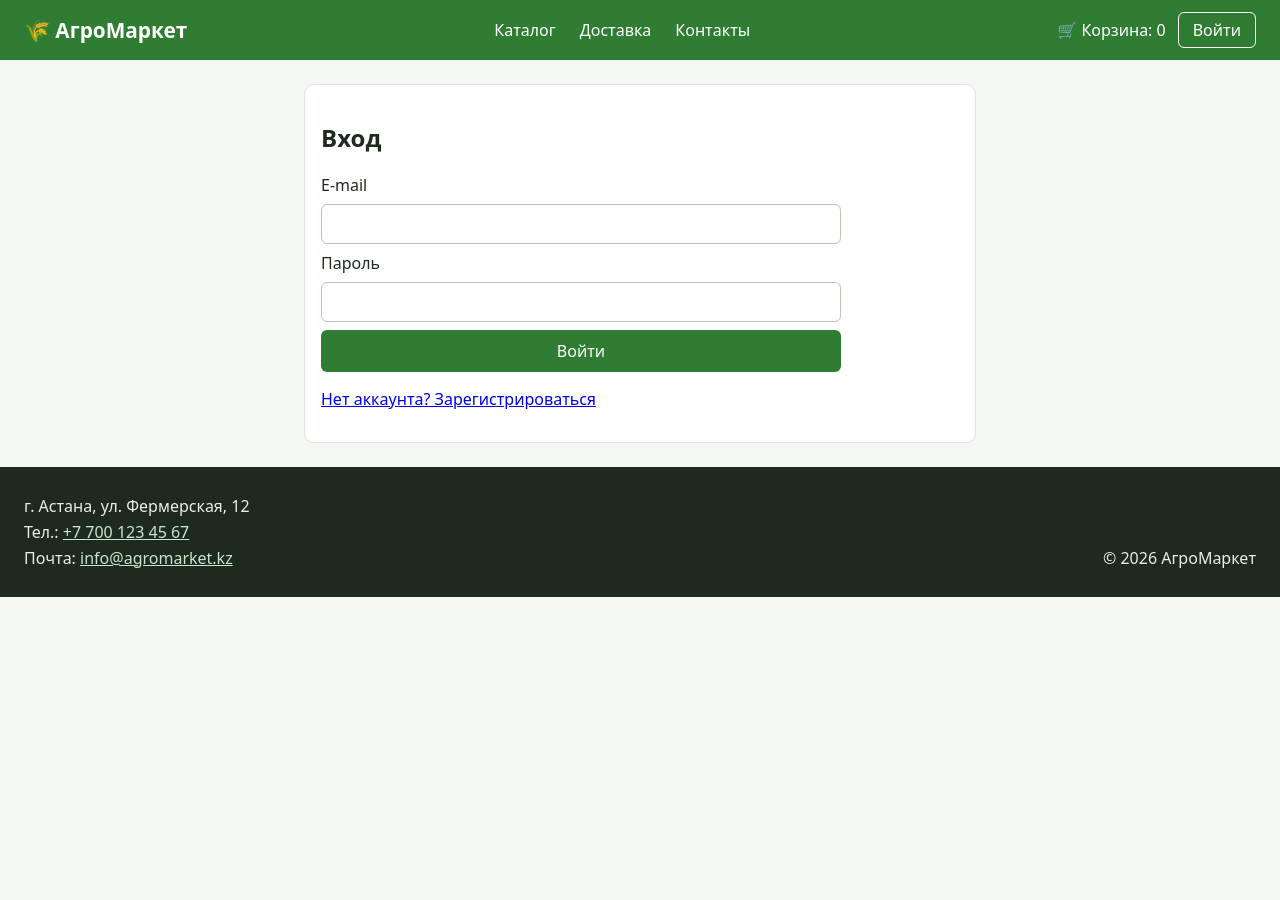
it: RegisterPage › у входа нет поля «Имя», ссылка ведёт на регистрацию, где оно есть
Expected: the field labelled "имя" is not shown
Step 1. Click the link "Нет аккаунта? Зарегистрироваться" → x=458, y=399, box x1=321 y1=388 x2=596 y2=410
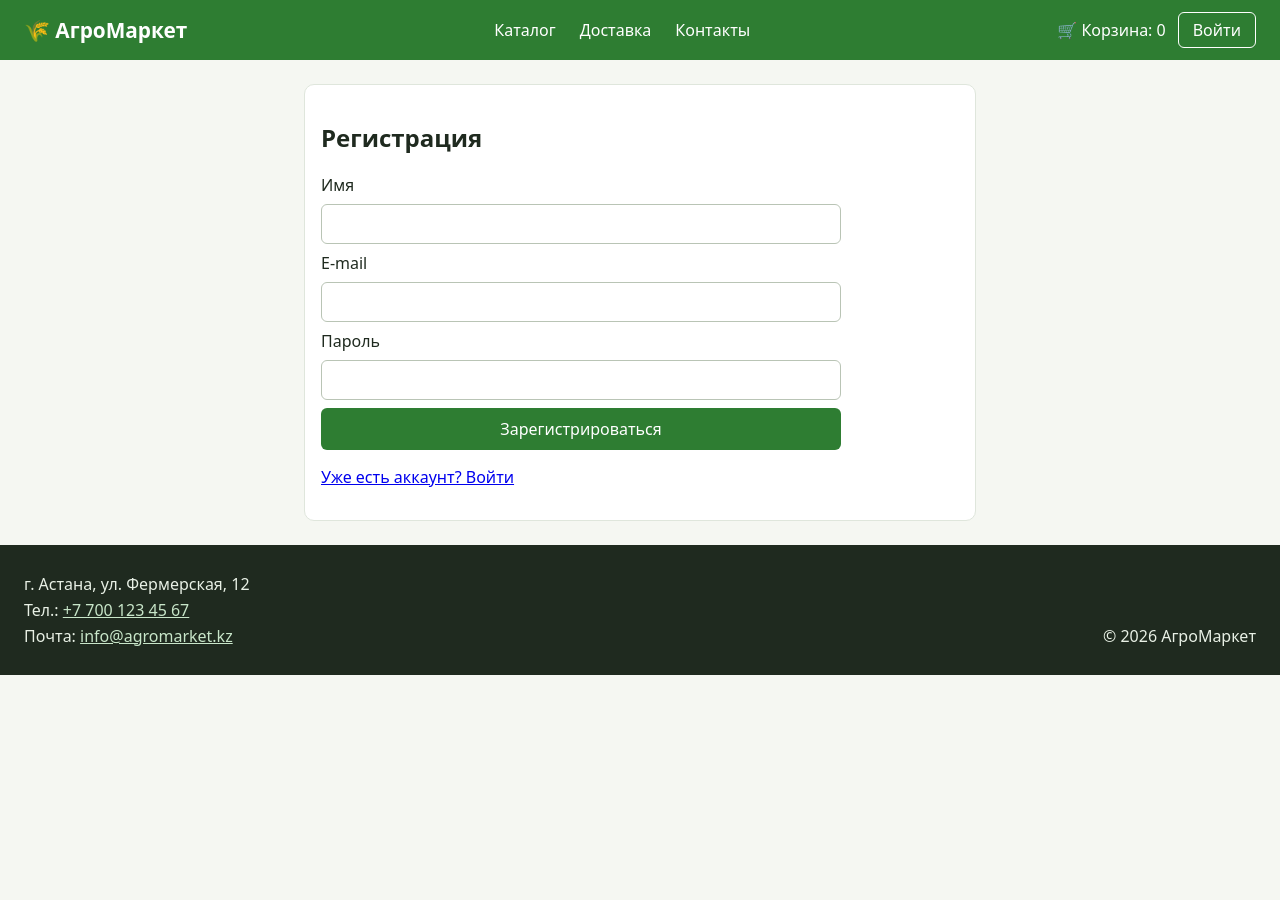
Expected: the field labelled "Имя" is shown, x1=321 y1=204 x2=841 y2=244
Expected: the heading "Регистрация" is shown, x1=321 y1=121 x2=482 y2=154
